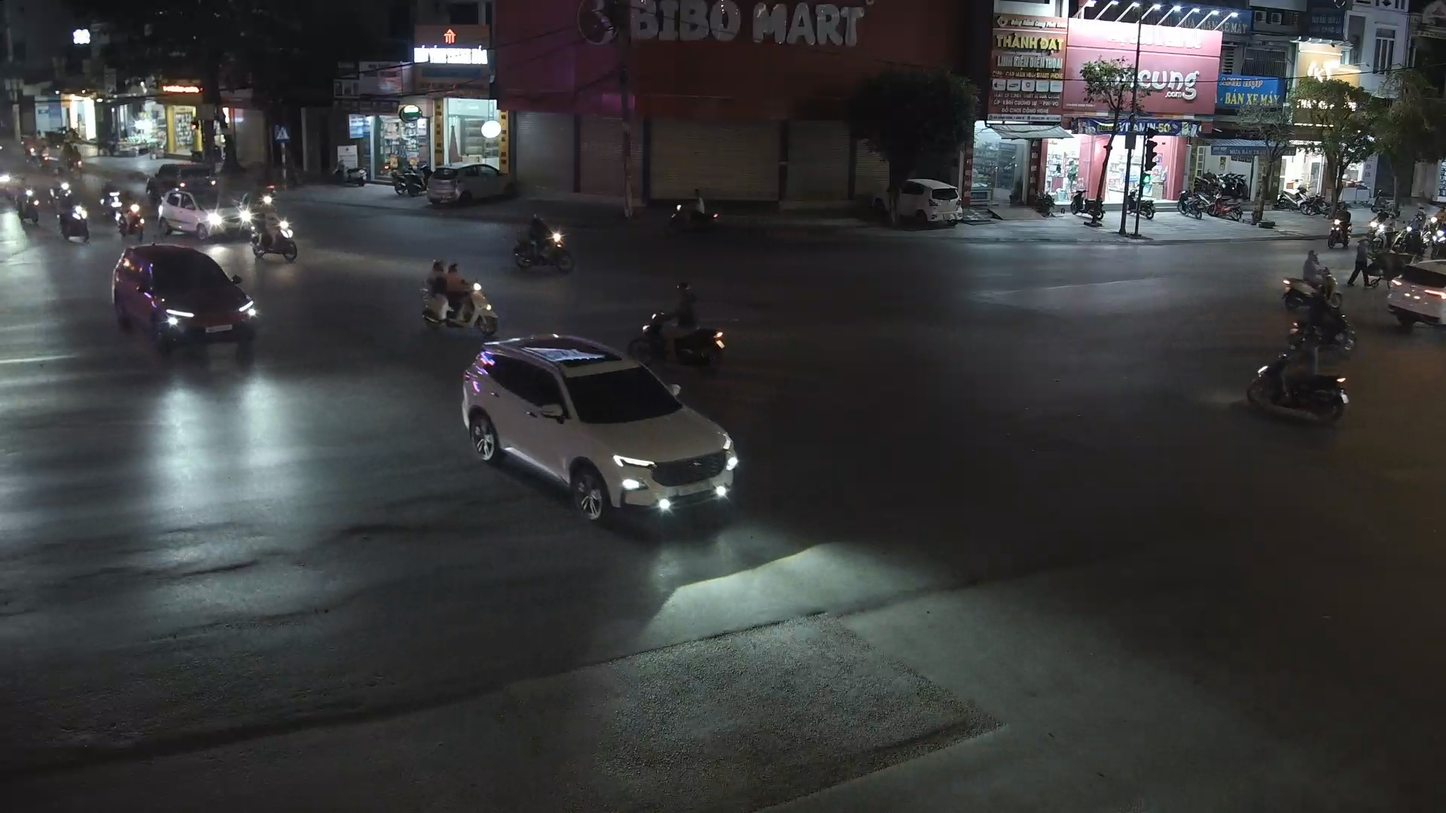car: (460, 331, 742, 527), (111, 241, 257, 357), (155, 205, 259, 291), (1385, 258, 1445, 344)
motorbike: (1244, 320, 1352, 426), (629, 278, 729, 373), (1282, 269, 1359, 358), (418, 258, 502, 339), (1279, 249, 1347, 317), (510, 212, 576, 276), (250, 200, 300, 264), (58, 199, 91, 243)
